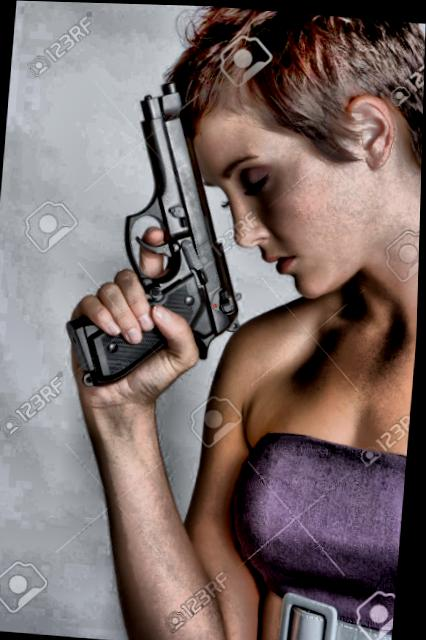pistol: (55, 64, 260, 398)
